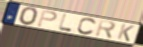C: (76, 17, 98, 36)
K: (116, 23, 136, 43)
L: (58, 13, 74, 33)
O: (18, 7, 39, 27)
P: (36, 9, 58, 28)
R: (94, 19, 117, 41)
